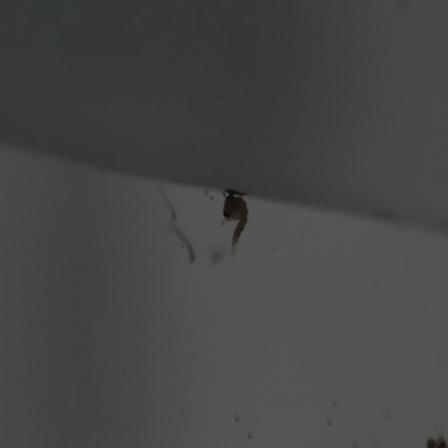Jentik-Nyamuk: (218, 188, 253, 256)
